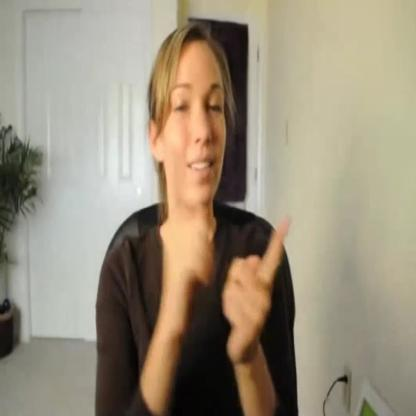NiceToMeetYou: (148, 129, 315, 375)
